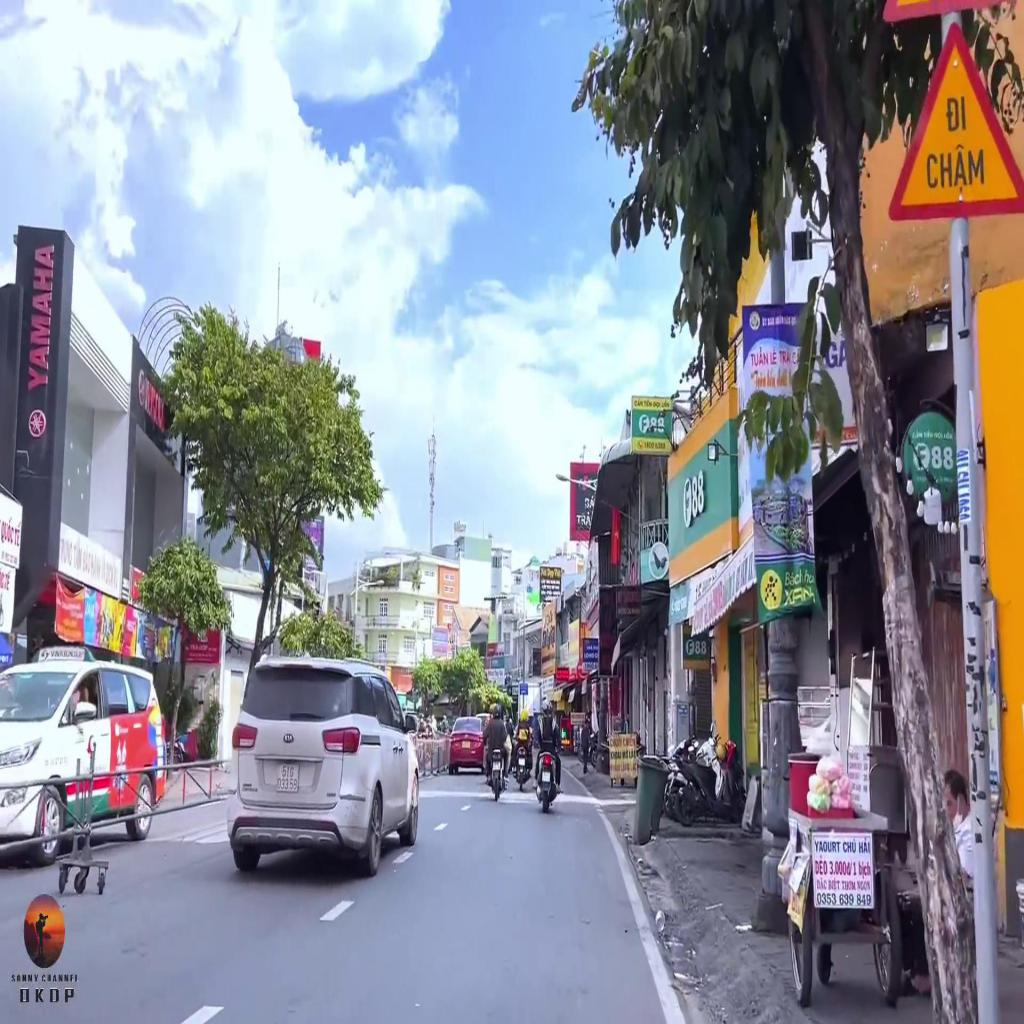di_cham: (884, 16, 1023, 224)
